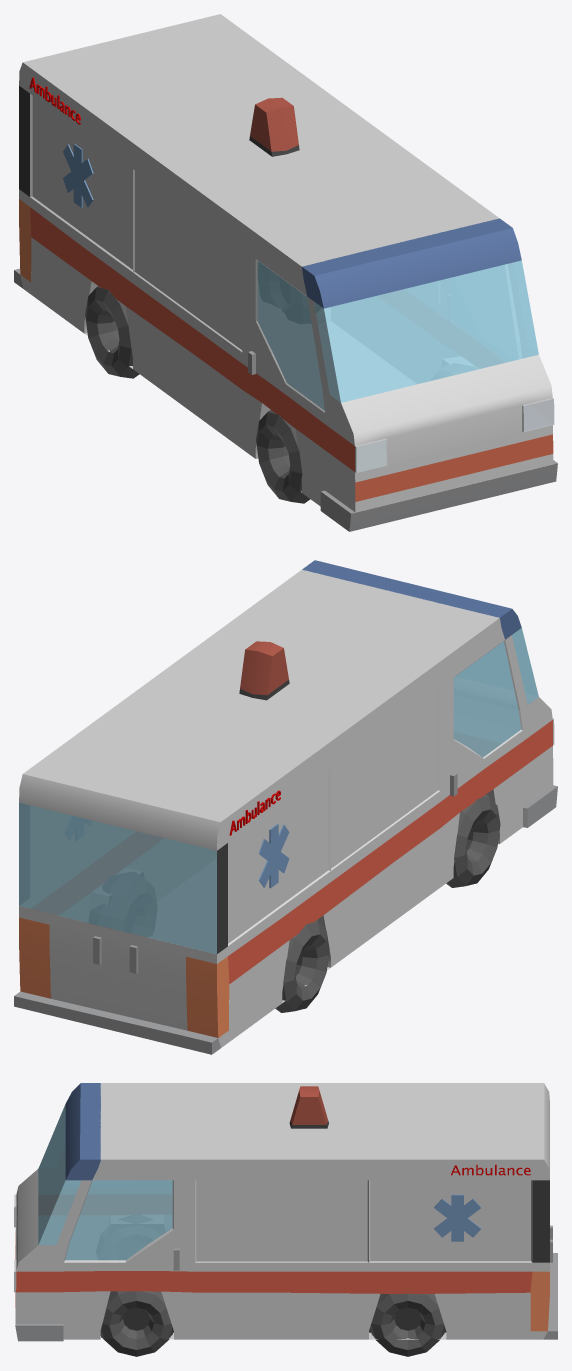
The model's file is Ambulance.fbx.
3 views of the same model, one above another, from view 1: azimuth 30°, elevation 25°; view 2: azimuth 150°, elevation 25°; view 3: azimuth 270°, elevation 25° (orthographic). The views are drawn at different scales.
Visible parts, largest first — view 1: polySurface37, polySurface6, polySurface22, polySurface24, polySurface2, polySurface20, polySurface36, pTorus7, pTorus8, polySurface27, polySurface34, polySurface31 (+1 smaller); view 2: polySurface37, polySurface32, polySurface24, polySurface15, polySurface2, polySurface18, pTorus8, pTorus7, polySurface22, polySurface27, polySurface31, polySurface6 (+1 smaller); view 3: polySurface37, polySurface24, polySurface2, pTorus1, pTorus6, polySurface22, polySurface6, polySurface31, polySurface15, polySurface27, polySurface8, polySurface20 (+5 smaller).
Part boxes in pixels (x1=…): polySurface37: x1=19, y1=14, x2=553, y2=512; polySurface6: x1=314, y1=260, x2=538, y2=402; polySurface22: x1=302, y1=218, x2=521, y2=308; polySurface24: x1=30, y1=207, x2=354, y2=471; polySurface2: x1=257, y1=261, x2=324, y2=410; polySurface20: x1=320, y1=460, x2=557, y2=531; polySurface36: x1=355, y1=434, x2=553, y2=501; pTorus7: x1=85, y1=286, x2=139, y2=378; pTorus8: x1=256, y1=410, x2=310, y2=503; polySurface27: x1=250, y1=97, x2=298, y2=151; polySurface34: x1=356, y1=399, x2=554, y2=472; polySurface31: x1=19, y1=86, x2=29, y2=196; polySurface37: x1=19, y1=569, x2=554, y2=1047; polySurface32: x1=19, y1=802, x2=216, y2=954; polySurface24: x1=32, y1=720, x2=552, y2=984; polySurface15: x1=19, y1=917, x2=229, y2=1037; polySurface2: x1=453, y1=641, x2=521, y2=757; polySurface18: x1=14, y1=991, x2=220, y2=1054; pTorus8: x1=446, y1=794, x2=500, y2=887; pTorus7: x1=275, y1=920, x2=329, y2=1012; polySurface22: x1=302, y1=560, x2=521, y2=639; polySurface27: x1=240, y1=641, x2=288, y2=695; polySurface31: x1=217, y1=843, x2=227, y2=953; polySurface6: x1=512, y1=628, x2=538, y2=704; polySurface37: x1=14, y1=1083, x2=549, y2=1340; polySurface24: x1=16, y1=1271, x2=532, y2=1293; polySurface2: x1=65, y1=1180, x2=172, y2=1260; pTorus1: x1=100, y1=1291, x2=173, y2=1356; pTorus6: x1=370, y1=1293, x2=445, y2=1356; polySurface22: x1=65, y1=1083, x2=100, y2=1180; polySurface6: x1=38, y1=1104, x2=81, y2=1245; polySurface31: x1=532, y1=1180, x2=549, y2=1262; polySurface15: x1=530, y1=1271, x2=549, y2=1331; polySurface27: x1=290, y1=1086, x2=328, y2=1124; polySurface8: x1=123, y1=1307, x2=446, y2=1332; polySurface20: x1=15, y1=1246, x2=63, y2=1341.
Size of the model in its own units: 210 by 285 by 599.
